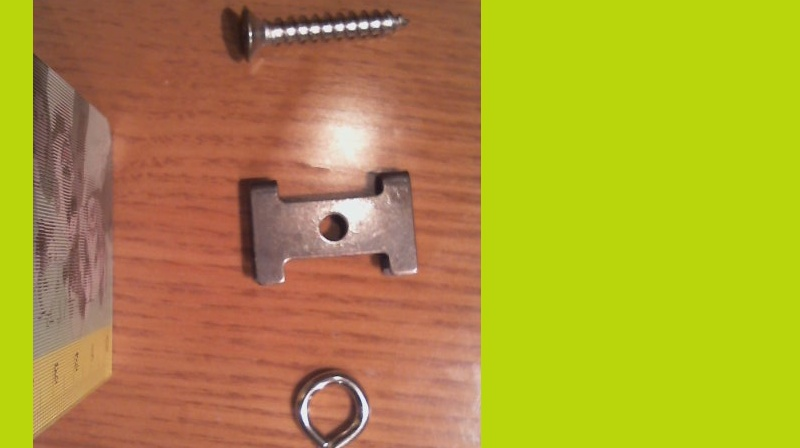O001: (290, 365, 373, 447)
O002: (242, 166, 420, 287)
S001: (232, 0, 411, 71)
